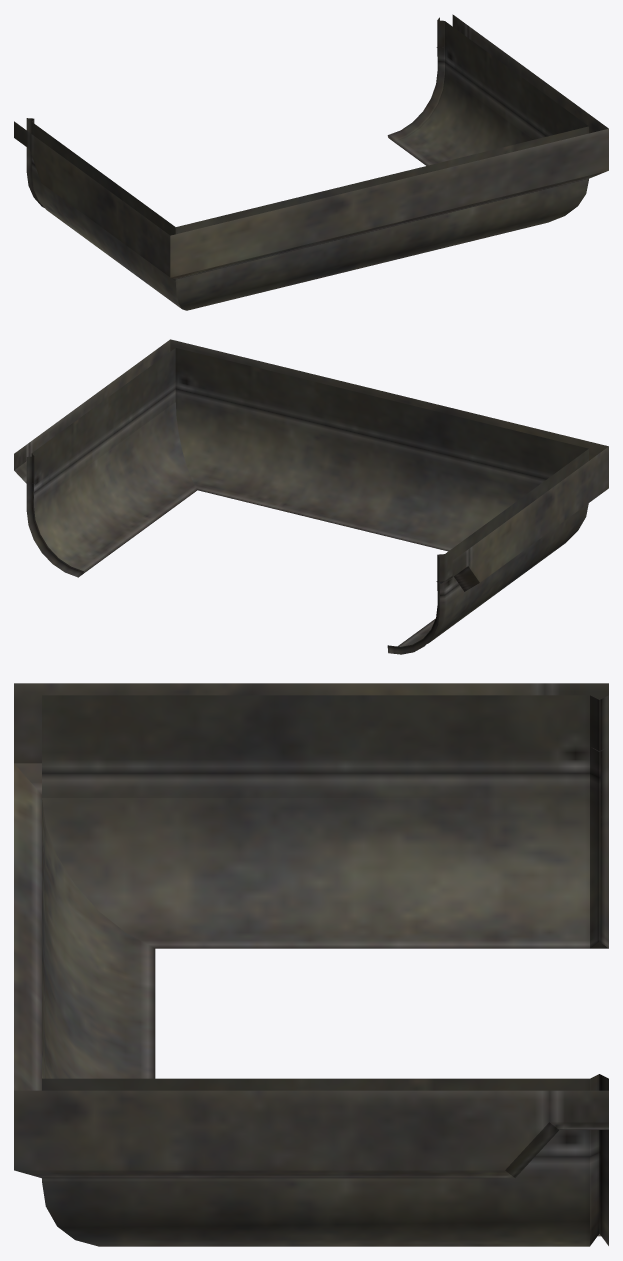
The model's file is welder_ceiling_pplant_divider.dae.
3 views of the same model, one above another, from view 1: azimuth 30°, elevation 25°; view 2: azimuth 150°, elevation 25°; view 3: azimuth 270°, elevation 25° (orthographic). The views are drawn at different scales.
Parts seen in each view (by area): view 1: welder_ceiling_pplant_divider; view 2: welder_ceiling_pplant_divider; view 3: welder_ceiling_pplant_divider.
Boxes of the visible parts, bbox=[...] form: welder_ceiling_pplant_divider: bbox=[14, 14, 608, 310]; welder_ceiling_pplant_divider: bbox=[14, 339, 608, 654]; welder_ceiling_pplant_divider: bbox=[14, 683, 608, 1246].
Size of the model in its own units: 2.12 by 0.5 by 1.31.
